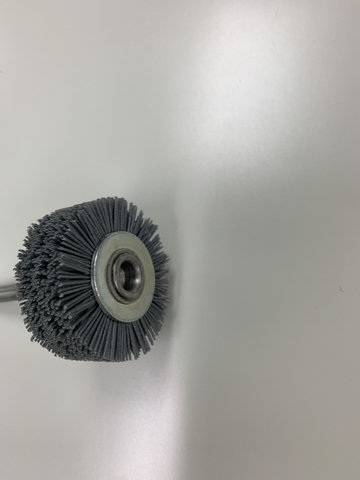Wheel Brush: (1, 195, 173, 365)
